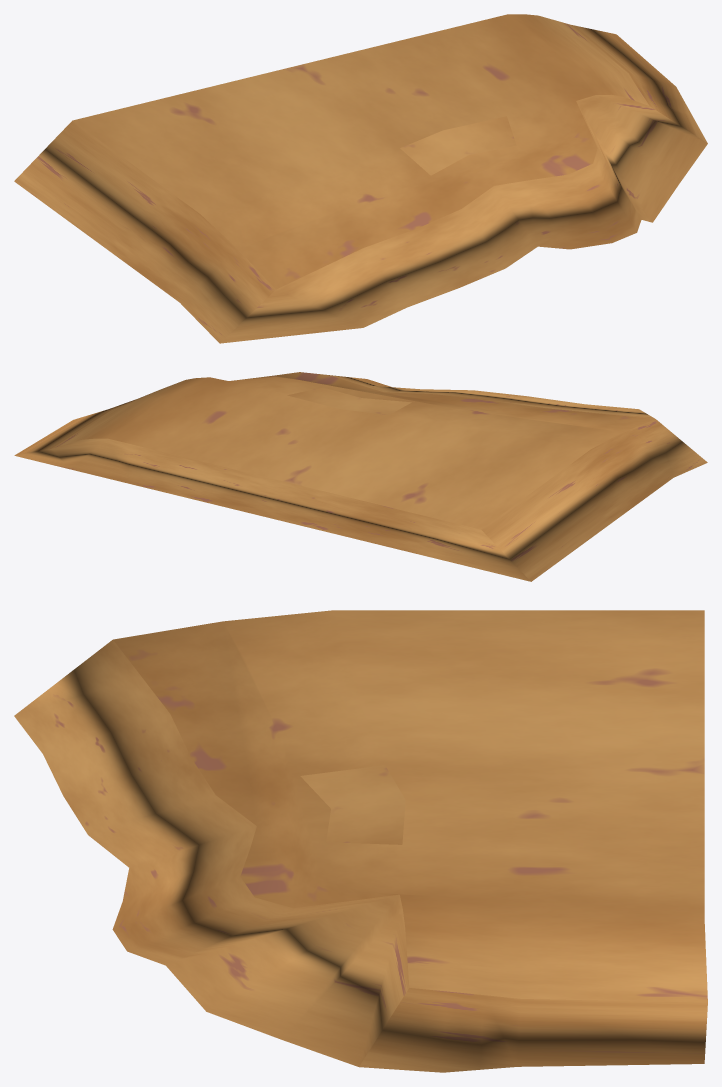
The model's file is NeoRushOutskirtsBasicFloor.glb.
3 renders of one model, top to bottom at view 1: azimuth 30°, elevation 25°; view 2: azimuth 150°, elevation 25°; view 3: azimuth 270°, elevation 25°, orthographic. The views are drawn at different scales.
Visible parts, largest first — view 1: Cube; view 2: Cube; view 3: Cube.
Boxes of the visible parts, x1,y1,x2,y2 form: Cube: (14, 14, 707, 343); Cube: (14, 372, 707, 581); Cube: (14, 610, 707, 1072).
Bounding box in the file's own units: 339 × 41.19 × 233.
Materials: 1 (1 with a texture image).
